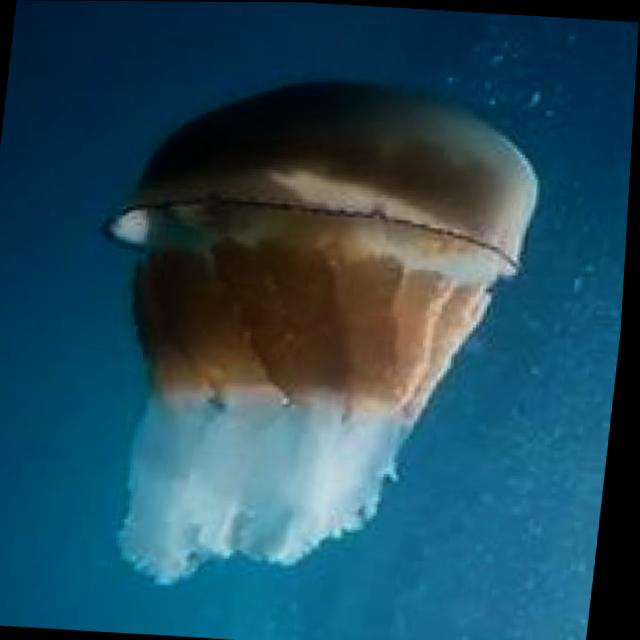Box-jellyfish: (71, 63, 556, 603)
